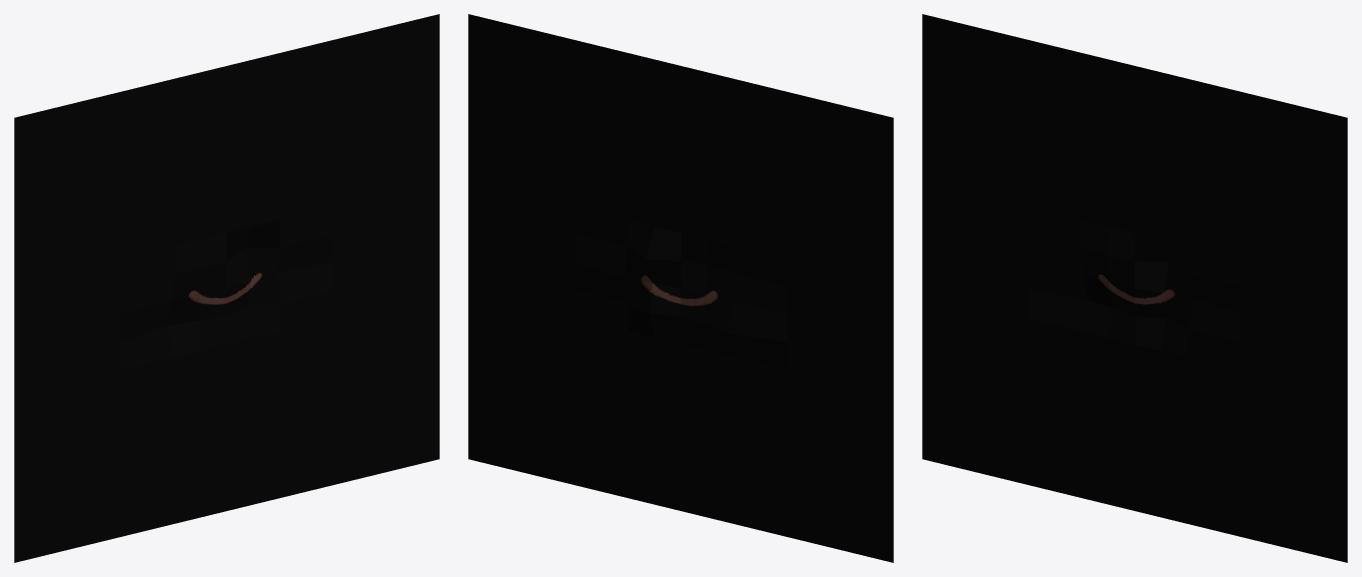
Rendered from mouth_smile.glb.
3 renders of one model, left to right at view 1: azimuth 30°, elevation 25°; view 2: azimuth 150°, elevation 25°; view 3: azimuth 330°, elevation 25°, orthographic.
Visible parts, largest first — view 1: mouth_smile; view 2: mouth_smile; view 3: mouth_smile.
Part boxes in pixels (box(x1,y1,x2,y2)): mouth_smile: box(14, 14, 439, 562); mouth_smile: box(468, 14, 893, 562); mouth_smile: box(922, 14, 1347, 562).
Bounding box in the file's own units: 0.4889 × 0.4889 × 0.0212.
1 material, 1 textured.
